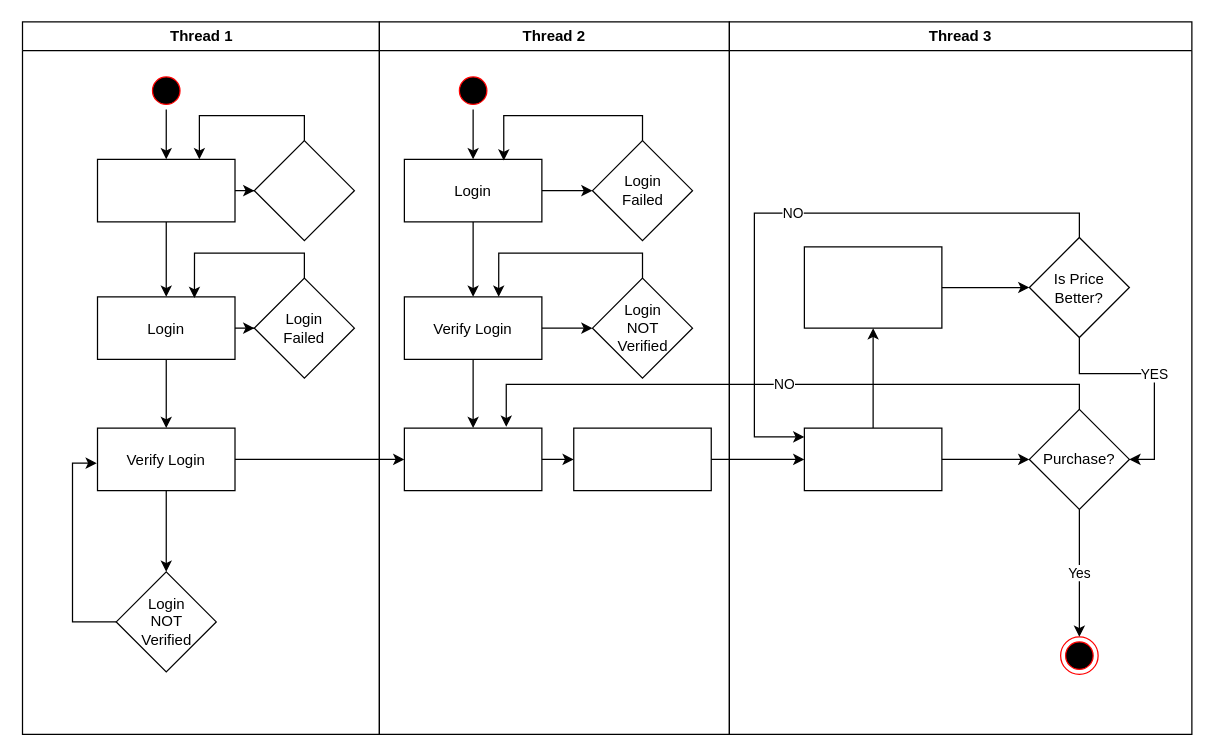
This 1214x756 diagram has some shape labels left out. Each missing label, with the centre of its shape:
"Compare Prices from Different Sellers" goes at pixel 872 287.
"Look for item" goes at pixel 472 459.
"Signup" goes at pixel 165 190.
"Signup Failed" goes at pixel 303 190.
"Verify Prices" goes at pixel 872 459.
"View Item Descriptions" goes at pixel 641 459.
